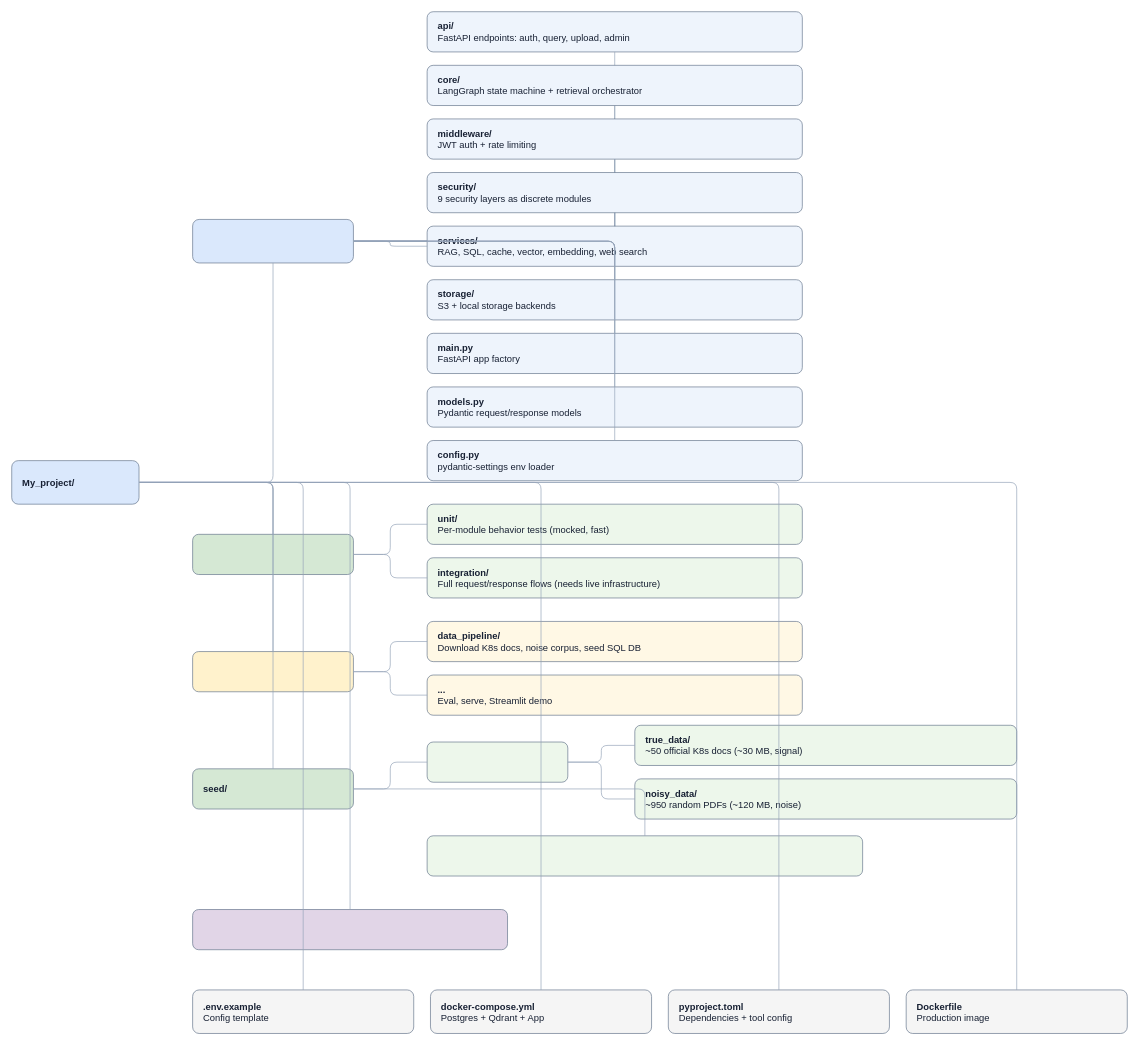
This 1139x1045 diagram has some shape labels left out. The shapes that lost their labels are listed below. From the top down, each one's box as (x1, y1, x2, y2) in pixels, then its label:
(192, 219, 353, 263): app/
(192, 534, 353, 575): tests/
(192, 651, 353, 692): scripts/
(426, 741, 568, 782): docs/
(426, 835, 863, 876): migrations/ 003_seed_k8s_ops.sql (7-table K8s ops schema)
(192, 909, 508, 950): infra/ CloudFormation for AWS deployment
